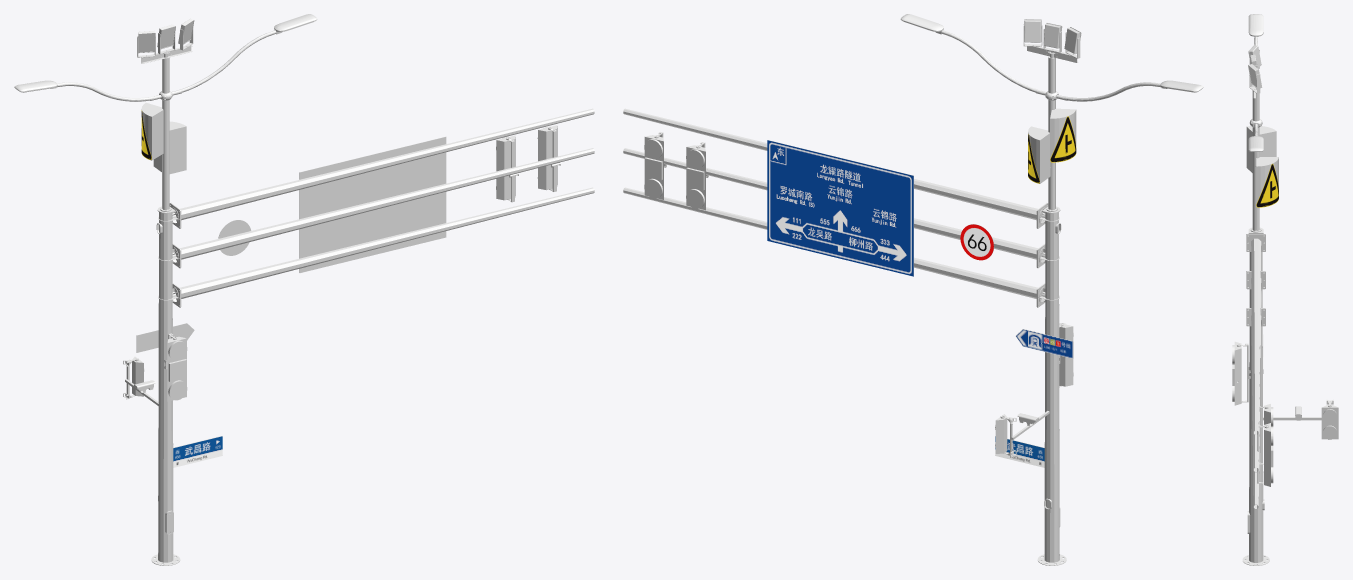
Rendered from road.gltf.
3 renders of one model, left to right at view 1: azimuth 30°, elevation 25°; view 2: azimuth 150°, elevation 25°; view 3: azimuth 270°, elevation 25°, orthographic. The views are drawn at different scales.
Bounding box in the file's own units: 138 × 122 × 23.37.
45 materials, 7 textured.
